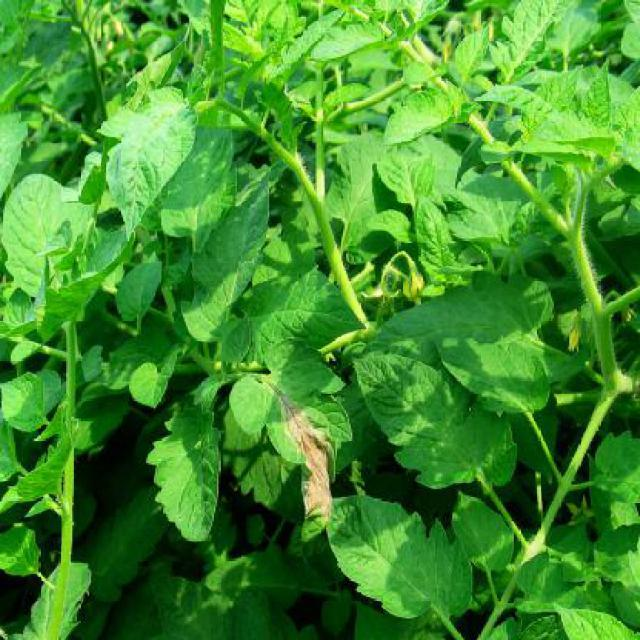Tomato bacterial spot leaf: (352, 346, 516, 512), (178, 162, 282, 364), (323, 503, 477, 625), (144, 384, 223, 550), (157, 106, 234, 274), (443, 320, 545, 429), (6, 168, 85, 297), (448, 488, 517, 577), (377, 95, 466, 143)
Tomato mosaic virus leaf: (235, 358, 351, 504)
